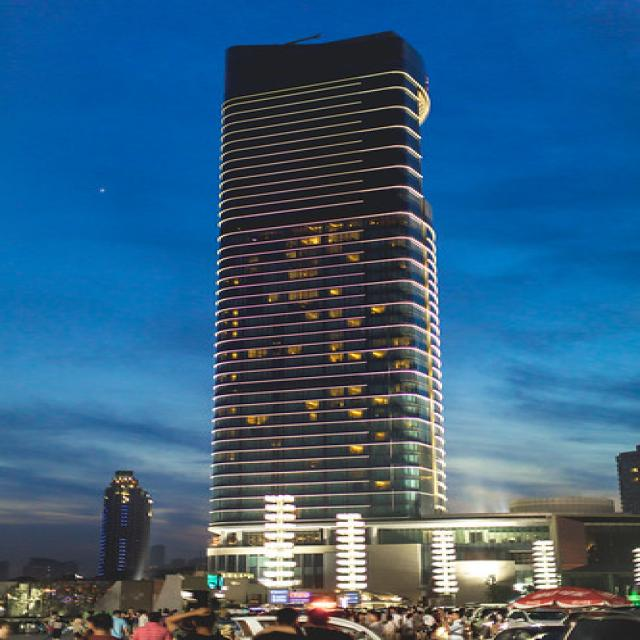building: (202, 26, 452, 617), (93, 465, 161, 585)
